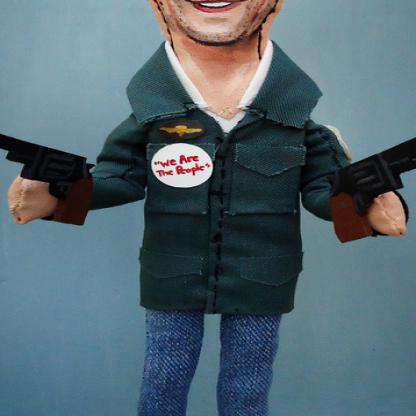gun: (325, 116, 415, 241), (0, 118, 97, 227)
